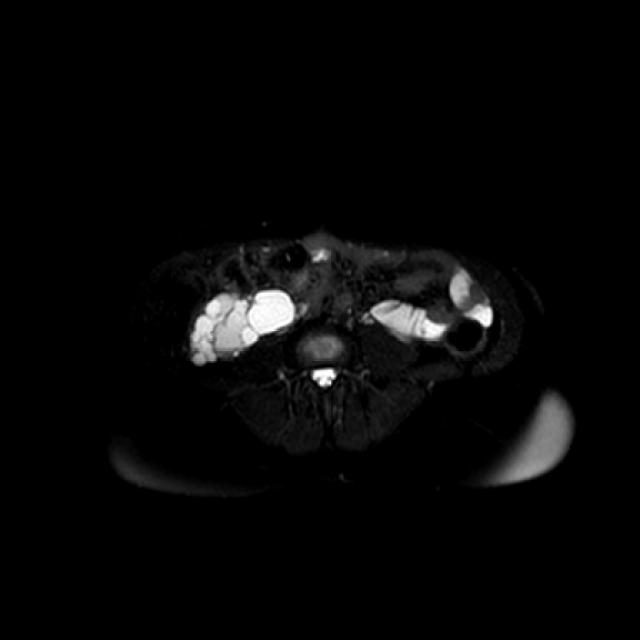sag: (187, 289, 296, 365)
